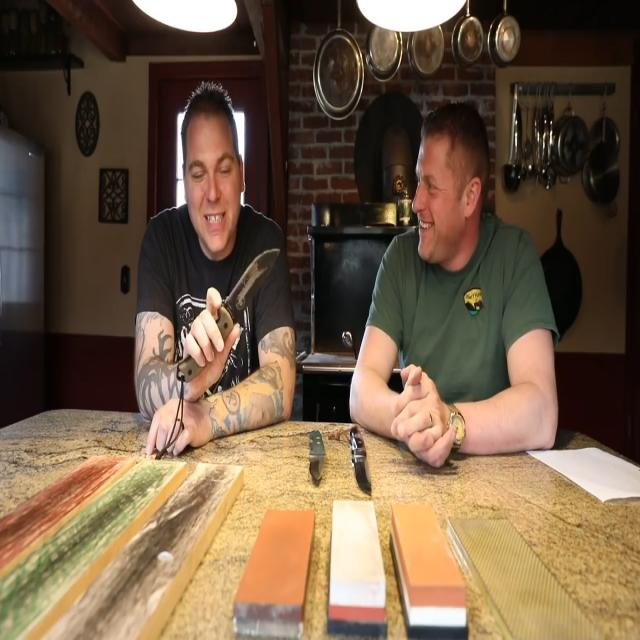knife: (225, 244, 285, 331), (347, 419, 377, 500), (306, 421, 329, 495)
